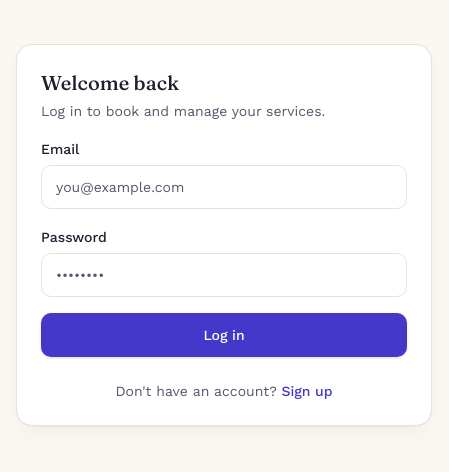
Scenario: LoginPage › shows the server's error message on failed login
In the field labelled "Email": (224, 187) [41,165,407,209], type "ali@example.com"
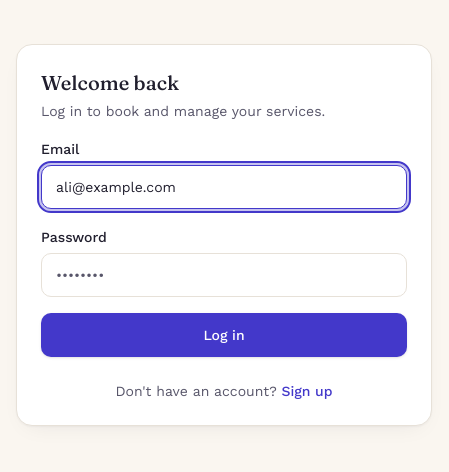
In the password field labelled "Password": (224, 275) [41,253,407,297], type "wrongpassword"
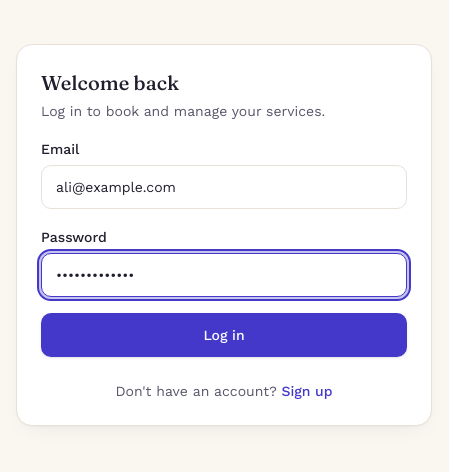
Click the button "Log in": (224, 335) [41,313,407,357]
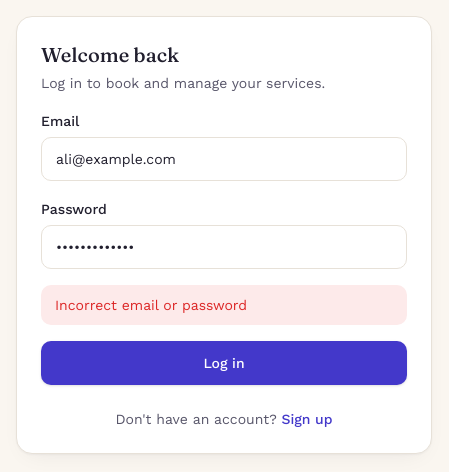
Expected: the text "Incorrect email or password" is shown, [41,285,407,325]
